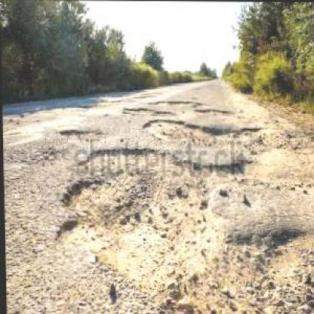Hueco: (49, 144, 224, 313), (141, 116, 267, 151), (151, 98, 206, 119), (58, 126, 104, 142), (122, 105, 174, 117)
